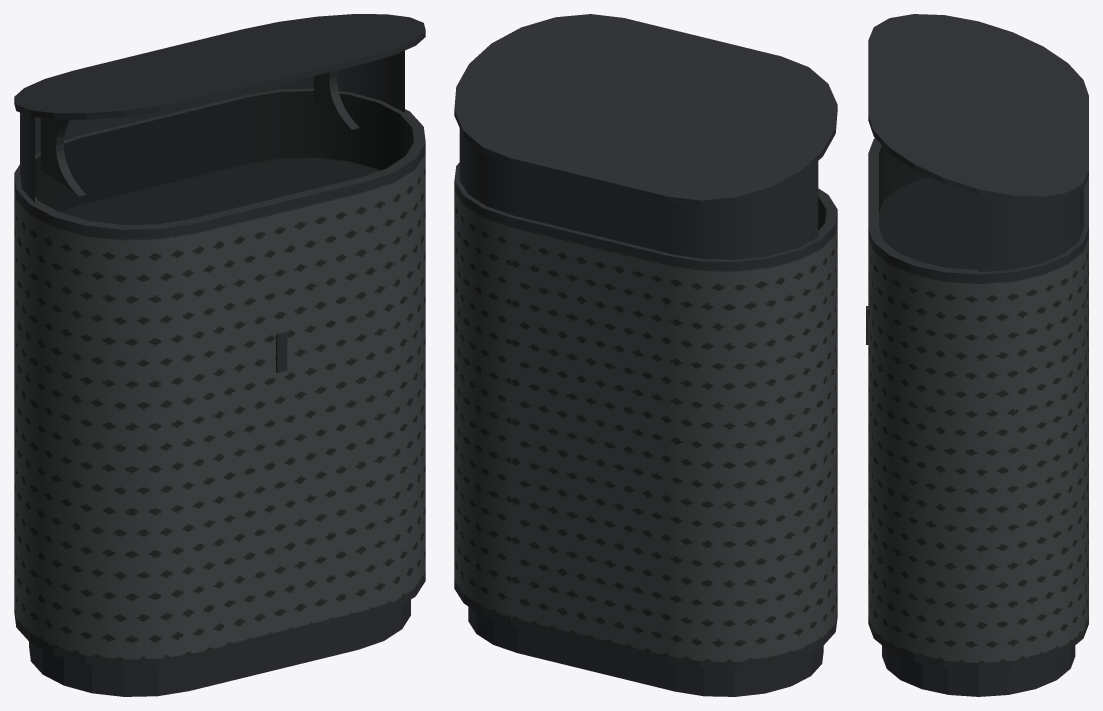
File: ipr-street.glb
3 renders of one model, left to right at view 1: azimuth 30°, elevation 25°; view 2: azimuth 150°, elevation 25°; view 3: azimuth 270°, elevation 25°, orthographic. The views are drawn at different scales.
Visible parts, largest first — view 1: expanded metal, black-grey metal; view 2: expanded metal, black-grey metal; view 3: expanded metal, black-grey metal.
Boxes of the visible parts, <box> form: expanded metal: <box>14,154,425,659</box>; black-grey metal: <box>14,14,425,696</box>; expanded metal: <box>454,190,837,662</box>; black-grey metal: <box>454,14,837,696</box>; expanded metal: <box>868,237,1088,663</box>; black-grey metal: <box>866,14,1088,696</box>.
Bounding box in the file's own units: 0.675 × 1.01 × 0.379.
Materials: 2 (1 with a texture image).
